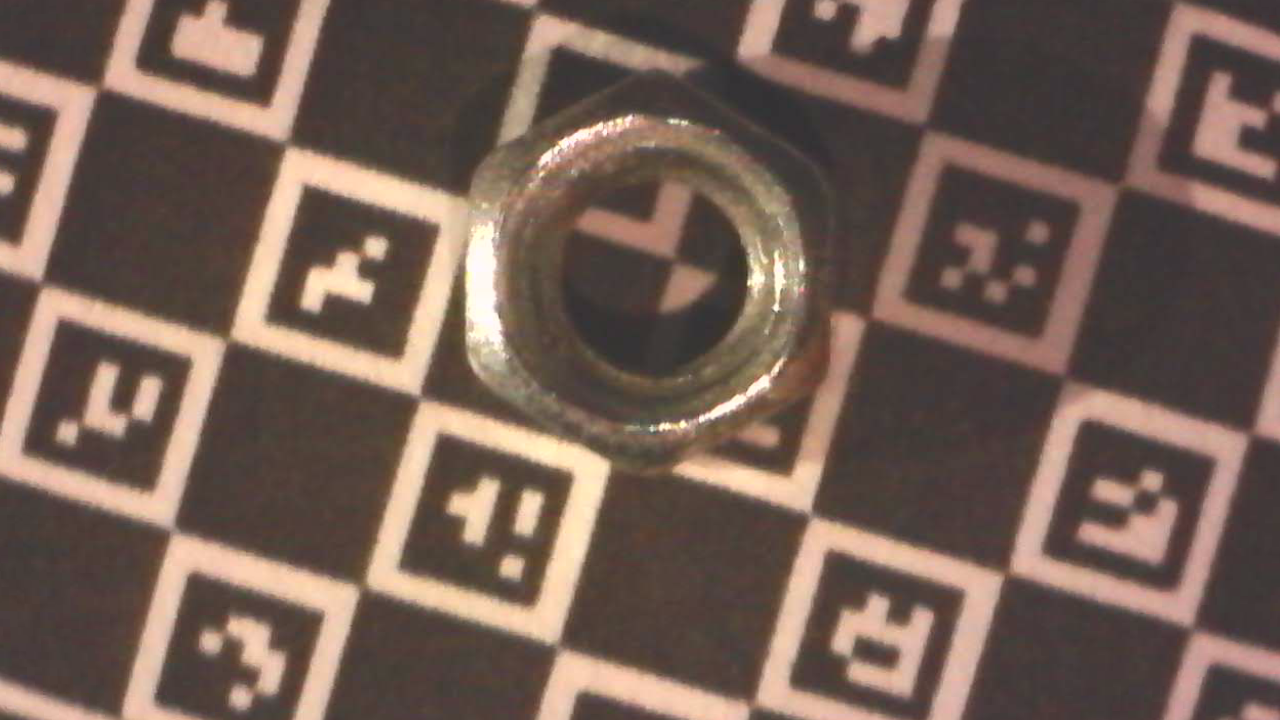Bolt: (463, 62, 832, 481)
